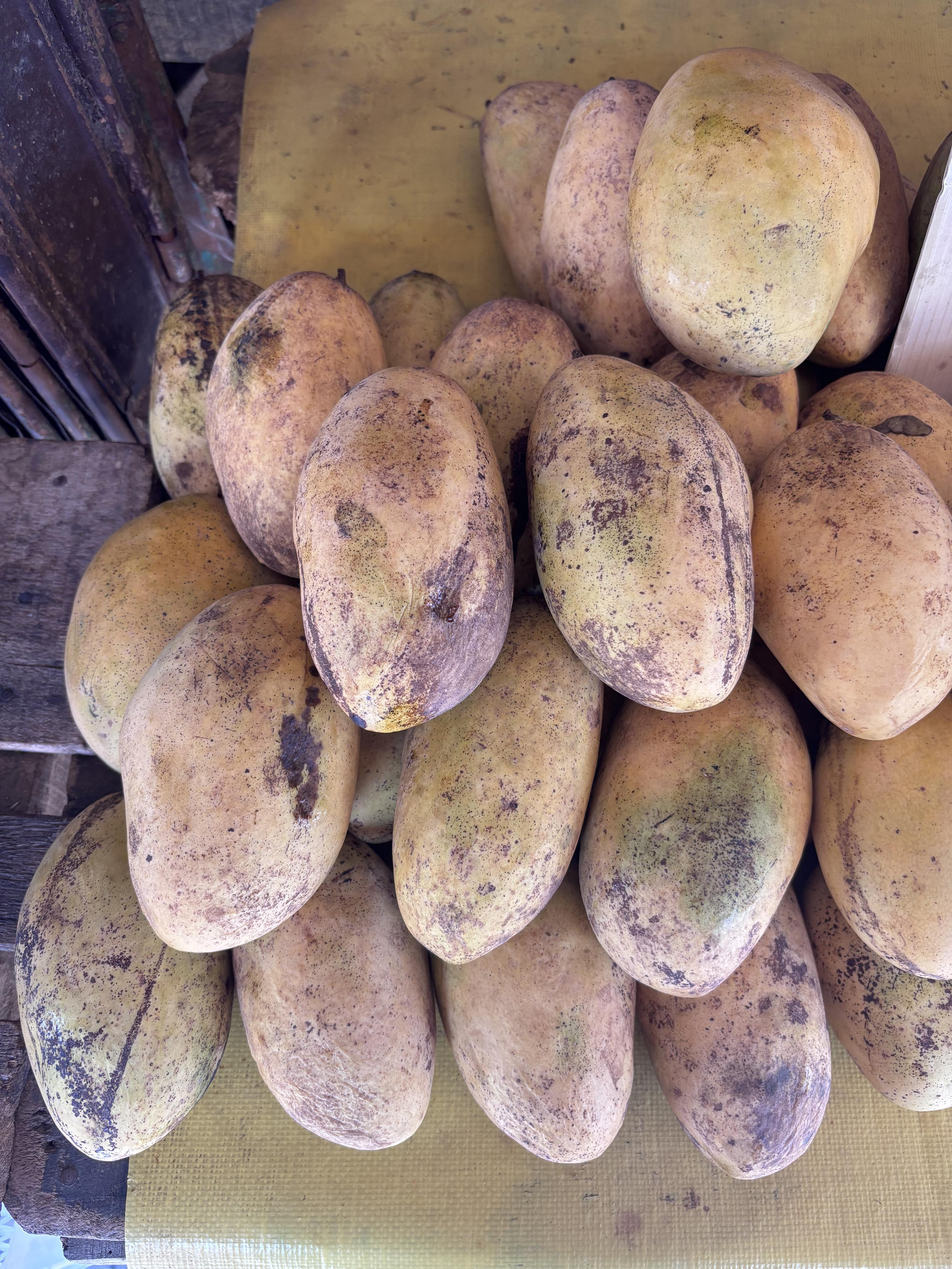mango: (627, 49, 879, 375), (527, 355, 754, 711), (294, 368, 513, 731)
occluded: (121, 585, 359, 951), (15, 794, 232, 1160), (580, 665, 811, 996), (393, 598, 603, 962), (752, 419, 952, 739), (233, 835, 435, 1150), (431, 865, 635, 1163), (65, 494, 280, 770), (637, 889, 831, 1179), (206, 272, 386, 576), (812, 696, 952, 979), (430, 298, 582, 550), (803, 868, 952, 1111), (541, 80, 668, 365), (812, 74, 908, 368), (149, 274, 260, 497), (480, 81, 582, 306), (800, 371, 952, 510), (652, 351, 798, 483), (371, 270, 467, 368), (349, 730, 404, 844)
